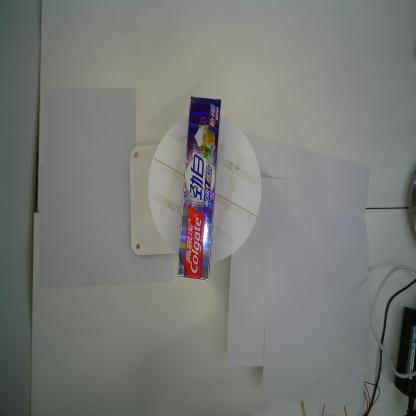Personal Hygiene: (177, 96, 221, 283)
